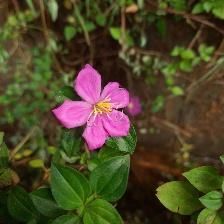malabar melastome: (52, 62, 134, 150)
